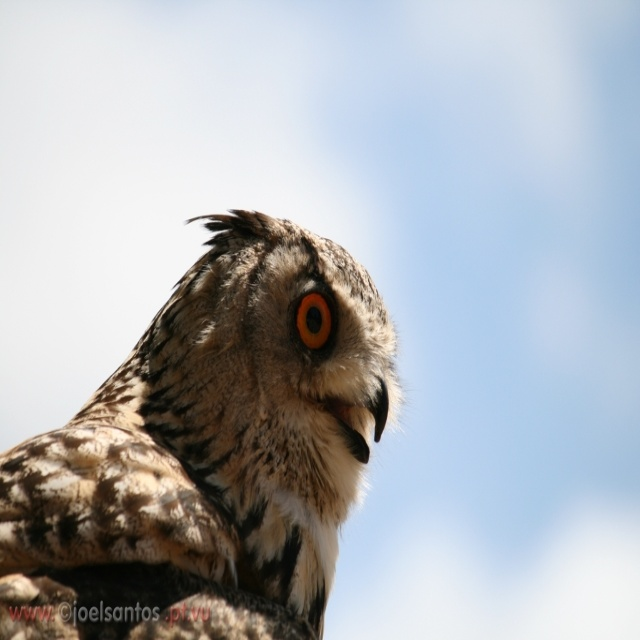Owl: (0, 206, 413, 639)
